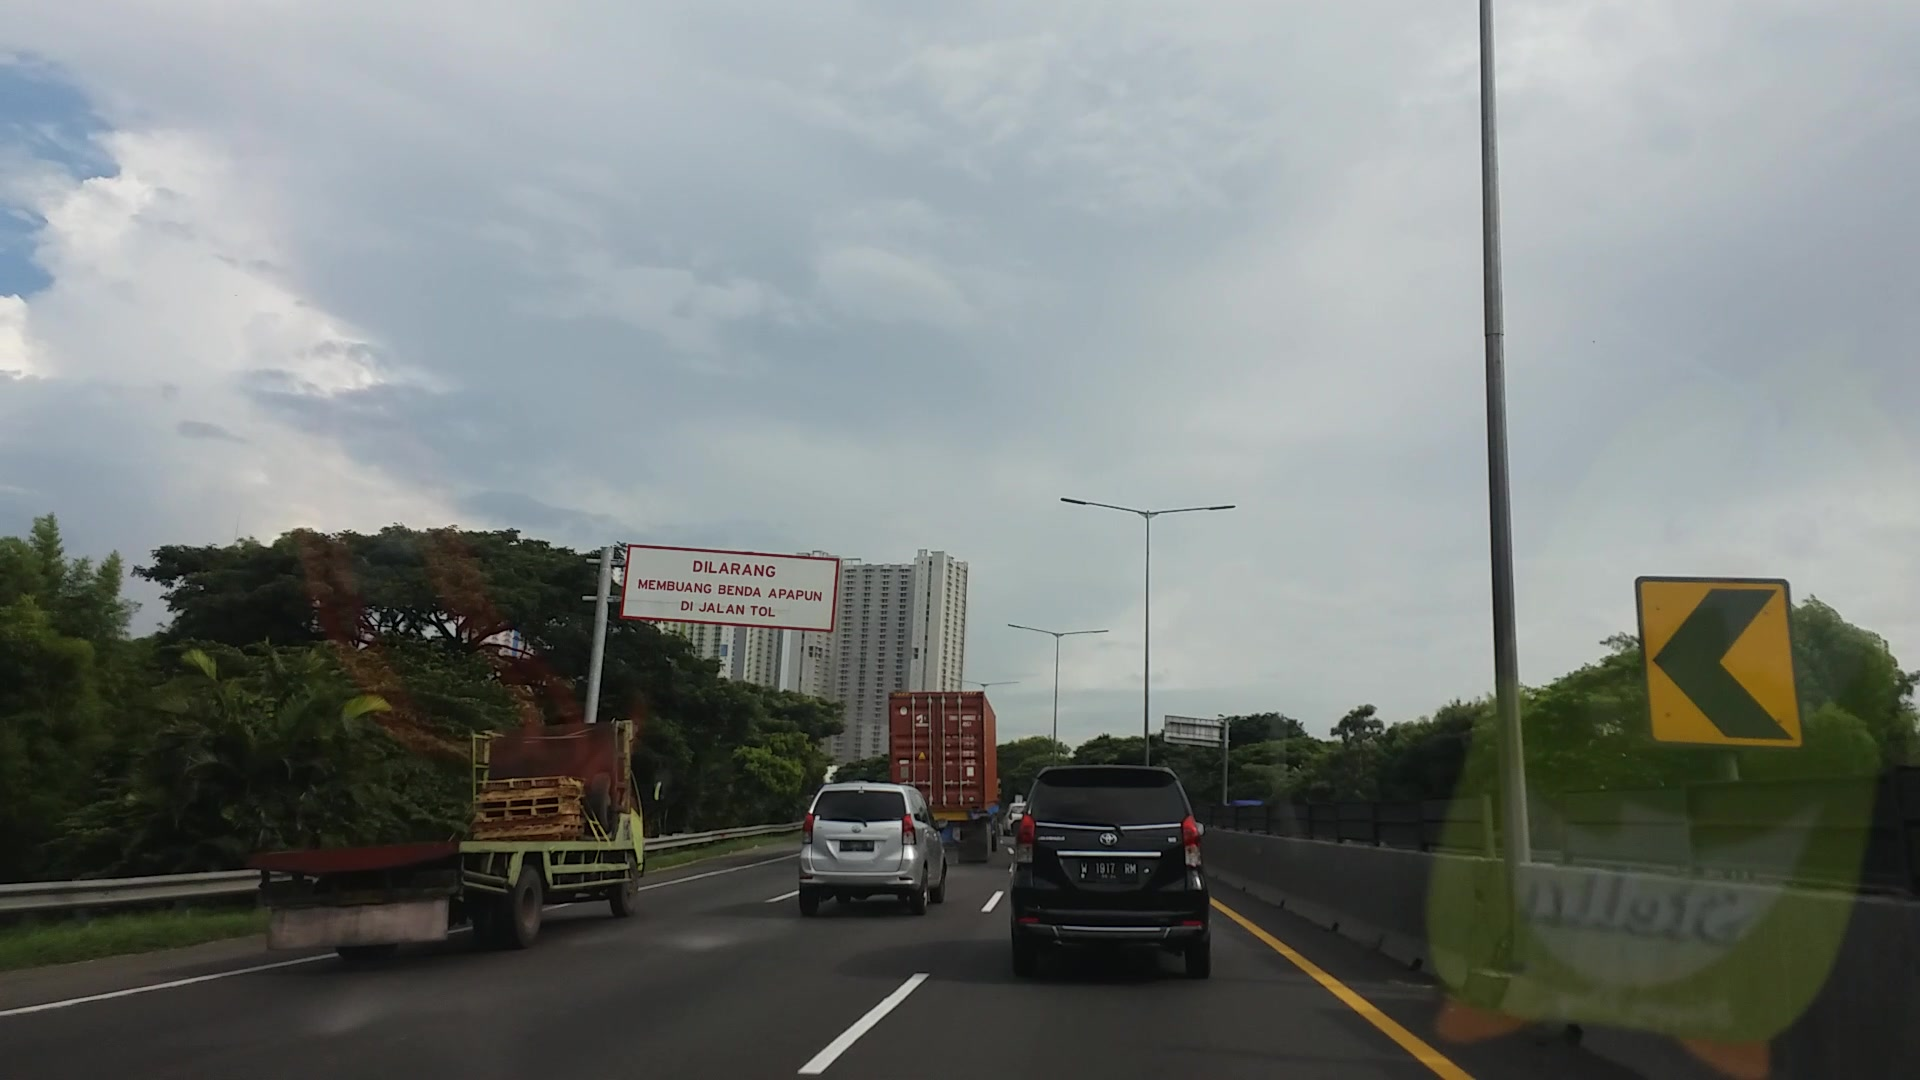plate_positive: (1077, 858, 1139, 884)
